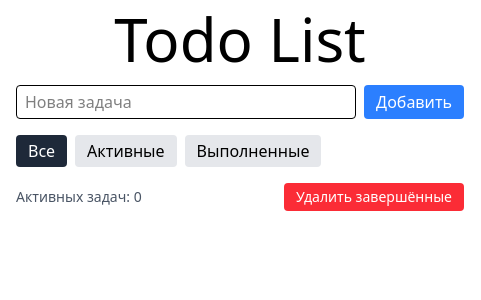
Test: Todo App › считает количество активных задач
The image size is (481, 300).
Type "Задача A" into the field with placeholder "Новая задача". click: (186, 102)
box: left=16, top=85, right=356, bottom=119
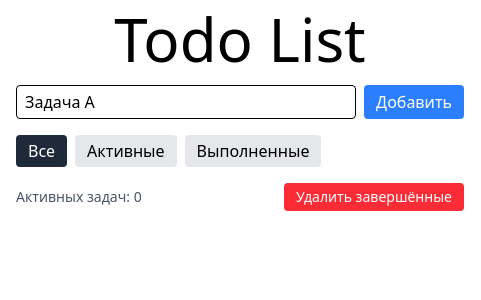
Click the button "Добавить". click: (414, 102)
box: left=364, top=85, right=464, bottom=119
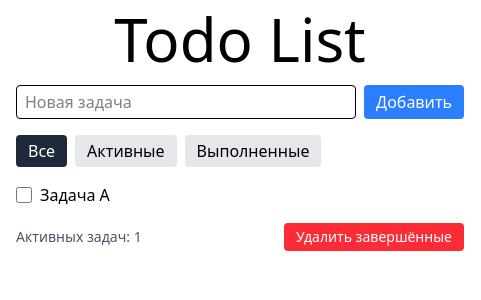
Type "Задача B" into the field with placeholder "Новая задача". click: (186, 102)
box: left=16, top=85, right=356, bottom=119
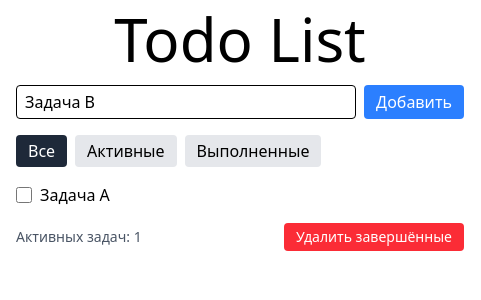
Click the button "Добавить". click: (414, 102)
box: left=364, top=85, right=464, bottom=119
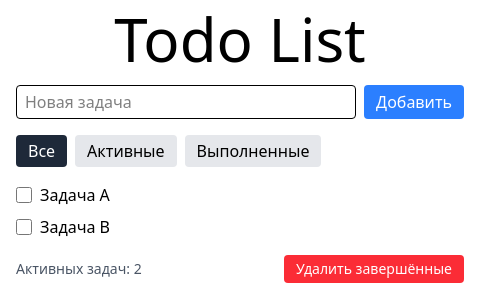
Делаем одну выполненной
Click the checkbox next to "Задача A". click: (24, 195)
box: left=16, top=187, right=32, bottom=203
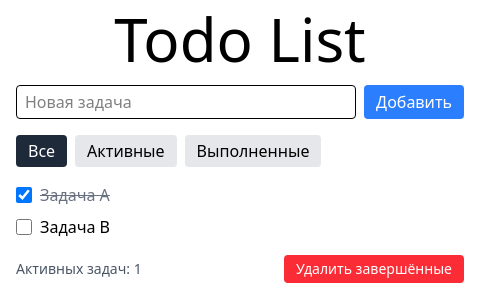
Check: the text "Активных задач: 1" is shown, box left=16, top=259, right=142, bottom=279
